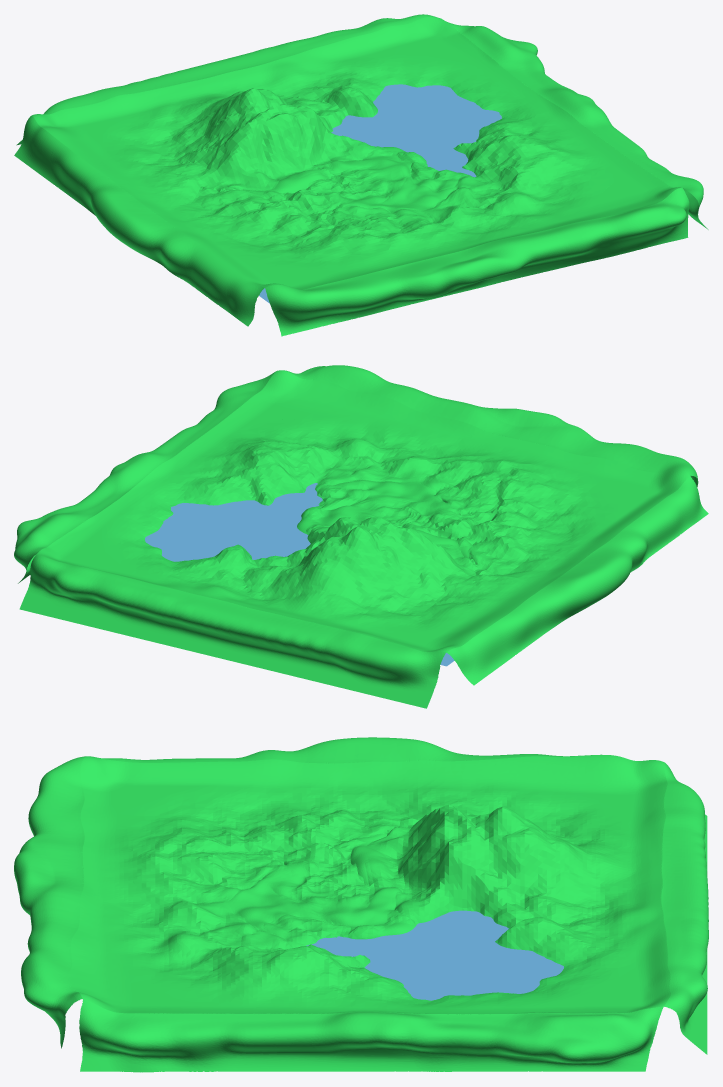
File: landone.fbx
The picture shows the model from 3 angles, top to bottom: view 1: azimuth 30°, elevation 25°; view 2: azimuth 150°, elevation 25°; view 3: azimuth 270°, elevation 25°; orthographic projection. The views are drawn at different scales.
Parts seen in each view (by area): view 1: Landscape.004, Landscape_plane.001; view 2: Landscape.004, Landscape_plane.001; view 3: Landscape.004, Landscape_plane.001.
Boxes of the visible parts, <box> form: Landscape.004: <box>14,14,708,336</box>; Landscape_plane.001: <box>259,84,501,303</box>; Landscape.004: <box>14,365,708,708</box>; Landscape_plane.001: <box>145,483,454,666</box>; Landscape.004: <box>14,737,708,1072</box>; Landscape_plane.001: <box>306,910,563,1000</box>.
Bounding box in the file's own units: 7113 × 1096 × 6961.
